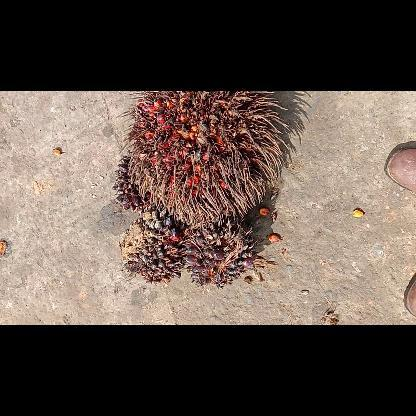TBS abnormal: (182, 214, 258, 291), (116, 204, 186, 284), (112, 152, 160, 212)
Terlalu masak: (117, 91, 291, 231)
